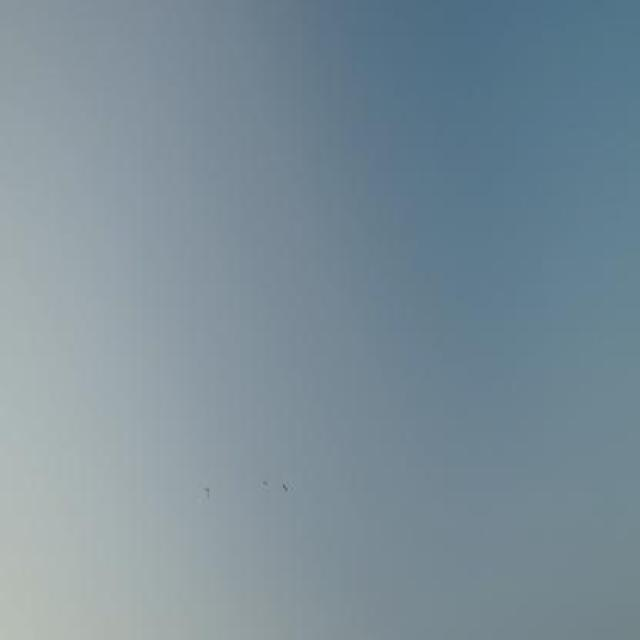bird: (203, 486, 211, 499), (282, 482, 288, 495), (262, 476, 268, 487)
